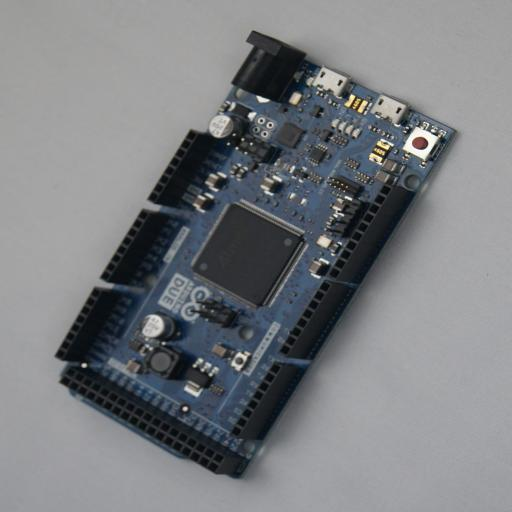Arduino Due: (54, 30, 458, 480)
